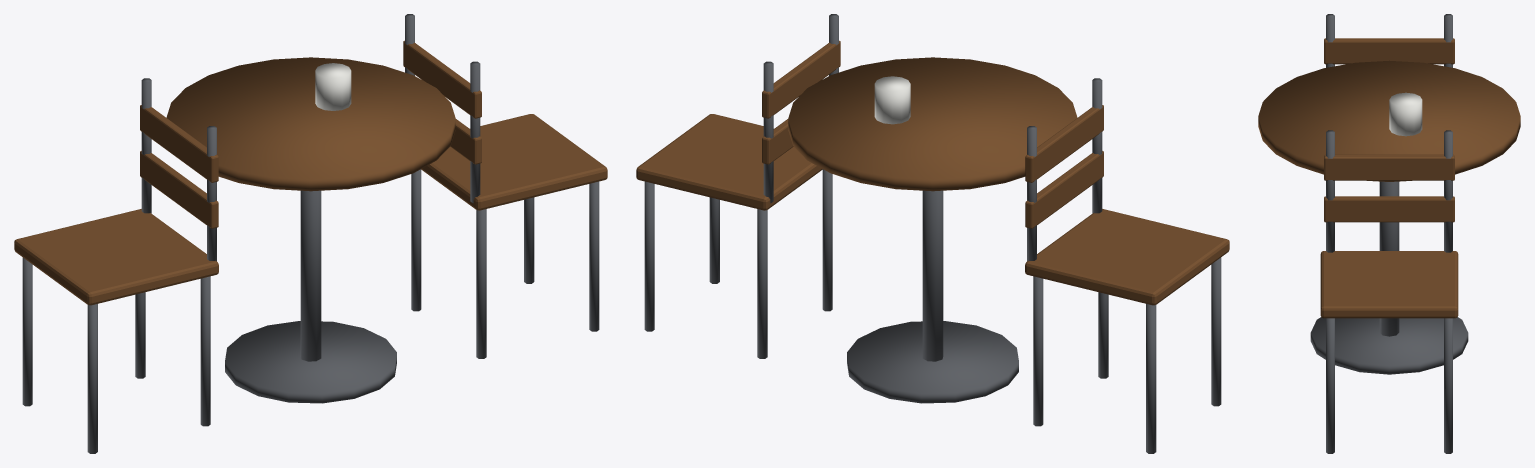
Rendered from bistro_set.glb.
The picture shows the model from 3 angles, left to right: view 1: azimuth 30°, elevation 25°; view 2: azimuth 150°, elevation 25°; view 3: azimuth 270°, elevation 25°; orthographic projection. The views are drawn at different scales.
Visible parts, largest first — view 1: bistro_set; view 2: bistro_set; view 3: bistro_set.
Part boxes in pixels (x1,y1,x2,y2): bistro_set: [14, 14, 607, 453]; bistro_set: [636, 14, 1229, 453]; bistro_set: [1258, 14, 1520, 453].
Bounding box in the file's own units: 1.66 × 0.9 × 0.8.
1 material, 1 textured.
